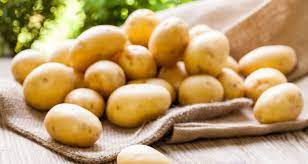potato: (108, 80, 177, 125), (42, 102, 107, 146), (22, 55, 77, 101), (66, 23, 129, 61), (180, 26, 228, 74), (252, 84, 308, 125), (175, 71, 229, 106), (149, 21, 186, 66)
